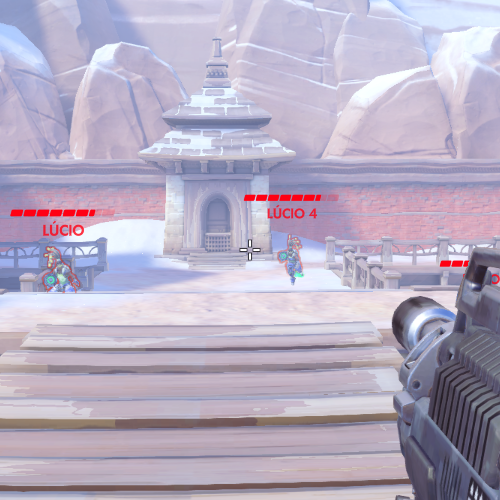hpbar: (9, 208, 116, 218), (243, 194, 340, 202), (439, 260, 469, 268)
